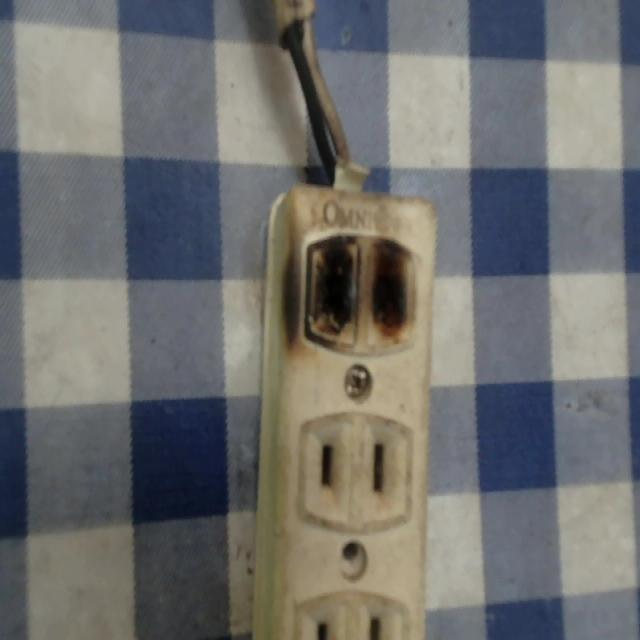-: (278, 219, 427, 353)
